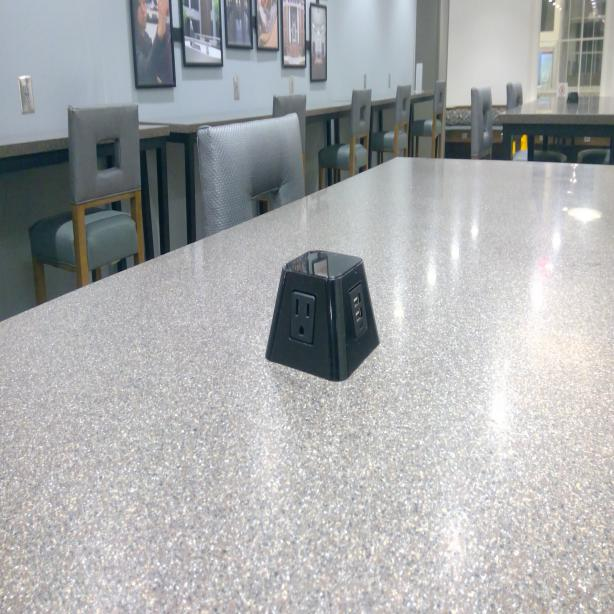typeb: (290, 289, 316, 343)
